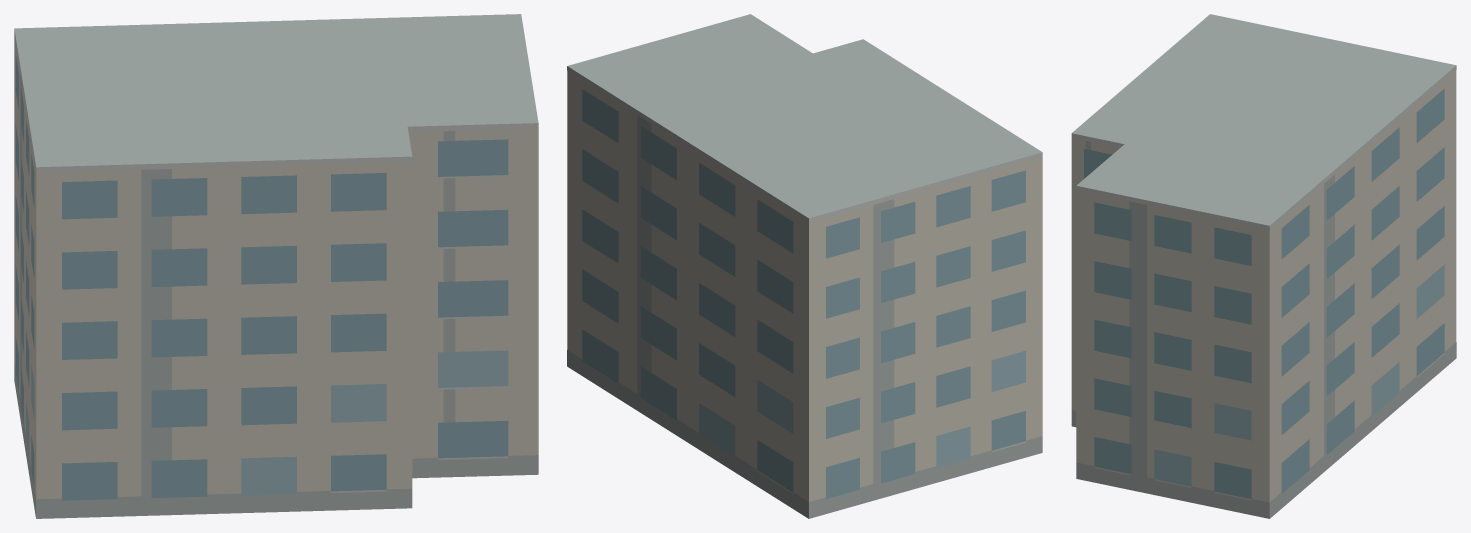
File: residential-4d1c1f85-2425-4bf8-9d45-0feeff297561.glb
The picture shows the model from 3 angles, left to right: view 1: azimuth 30°, elevation 25°; view 2: azimuth 150°, elevation 25°; view 3: azimuth 270°, elevation 25°; orthographic projection. The views are drawn at different scales.
Visible parts, largest first — view 1: residential-4d1c1f85-2425-4bf8-9d45-0feeff297561.tmp; view 2: residential-4d1c1f85-2425-4bf8-9d45-0feeff297561.tmp; view 3: residential-4d1c1f85-2425-4bf8-9d45-0feeff297561.tmp.
Part boxes in pixels (box(x1,y1,x2,y2)): residential-4d1c1f85-2425-4bf8-9d45-0feeff297561.tmp: box(14, 14, 538, 518); residential-4d1c1f85-2425-4bf8-9d45-0feeff297561.tmp: box(567, 14, 1042, 518); residential-4d1c1f85-2425-4bf8-9d45-0feeff297561.tmp: box(1071, 14, 1456, 518).
Size of the model in its own units: 23.64 by 15.25 by 18.16.
